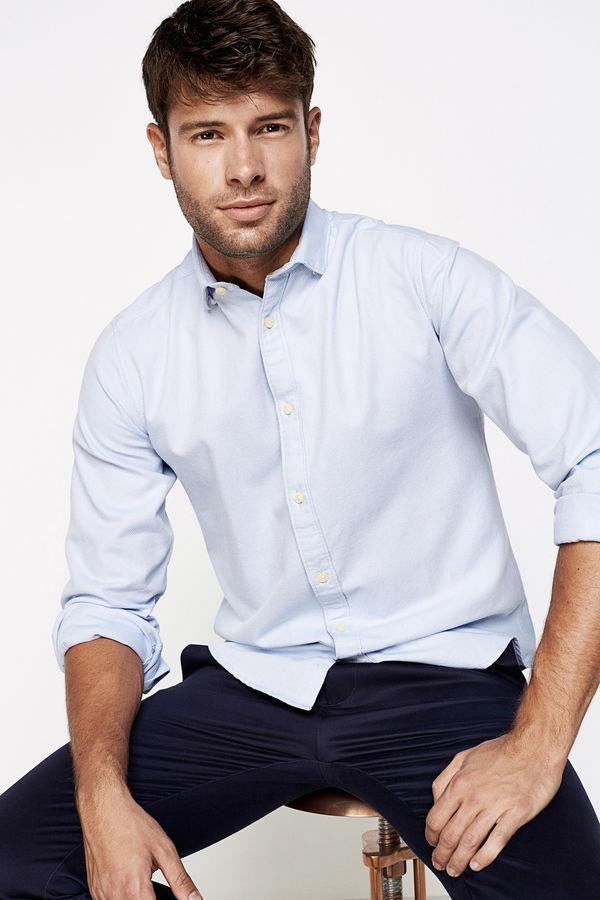teeshirt: (41, 251, 600, 655)
